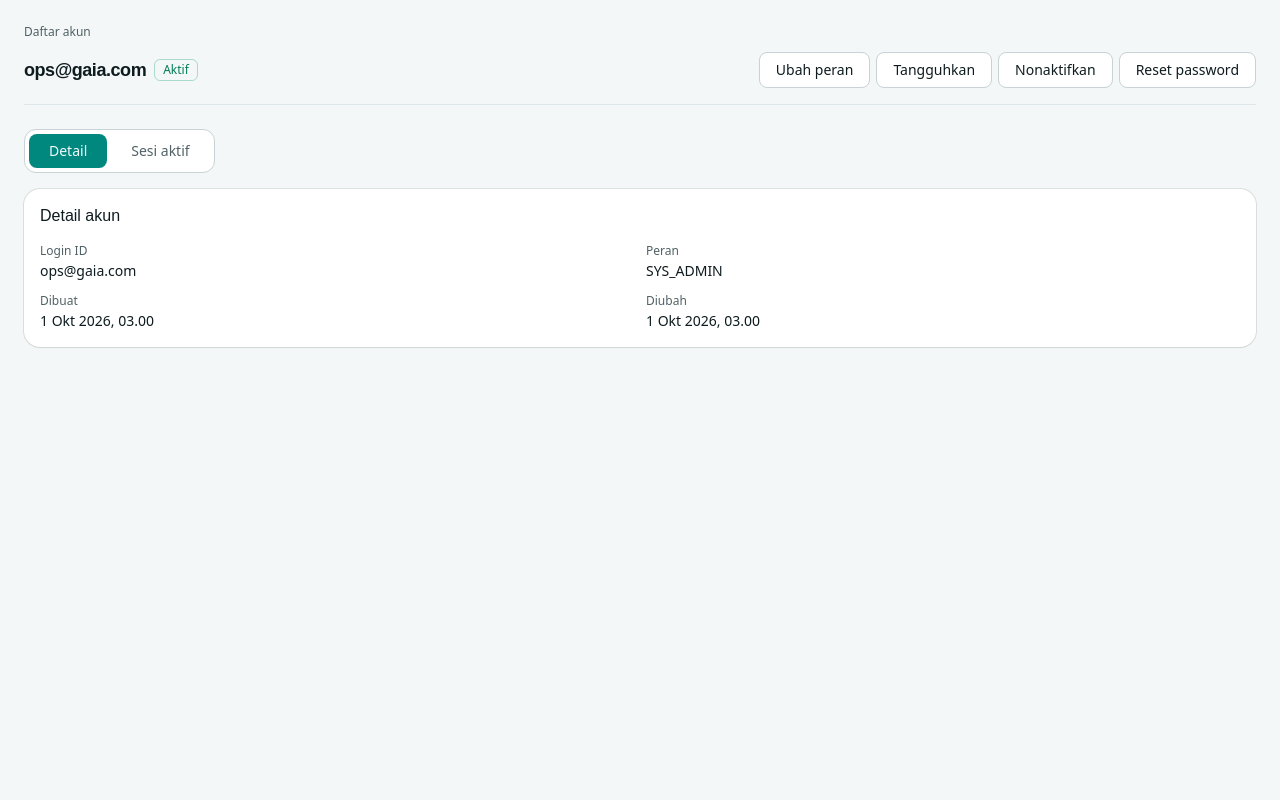
Test case: force logout of another account (D4.10, D13.1) › 409 SELF_ACTION_NOT_ALLOWED shows the fixed copy with the reference id, never the server text
Expected: the heading "ops@gaia.com" is shown, [24,56,146,84]
Click the tab "Sesi aktif": click(160, 151) [111,134,210,168]
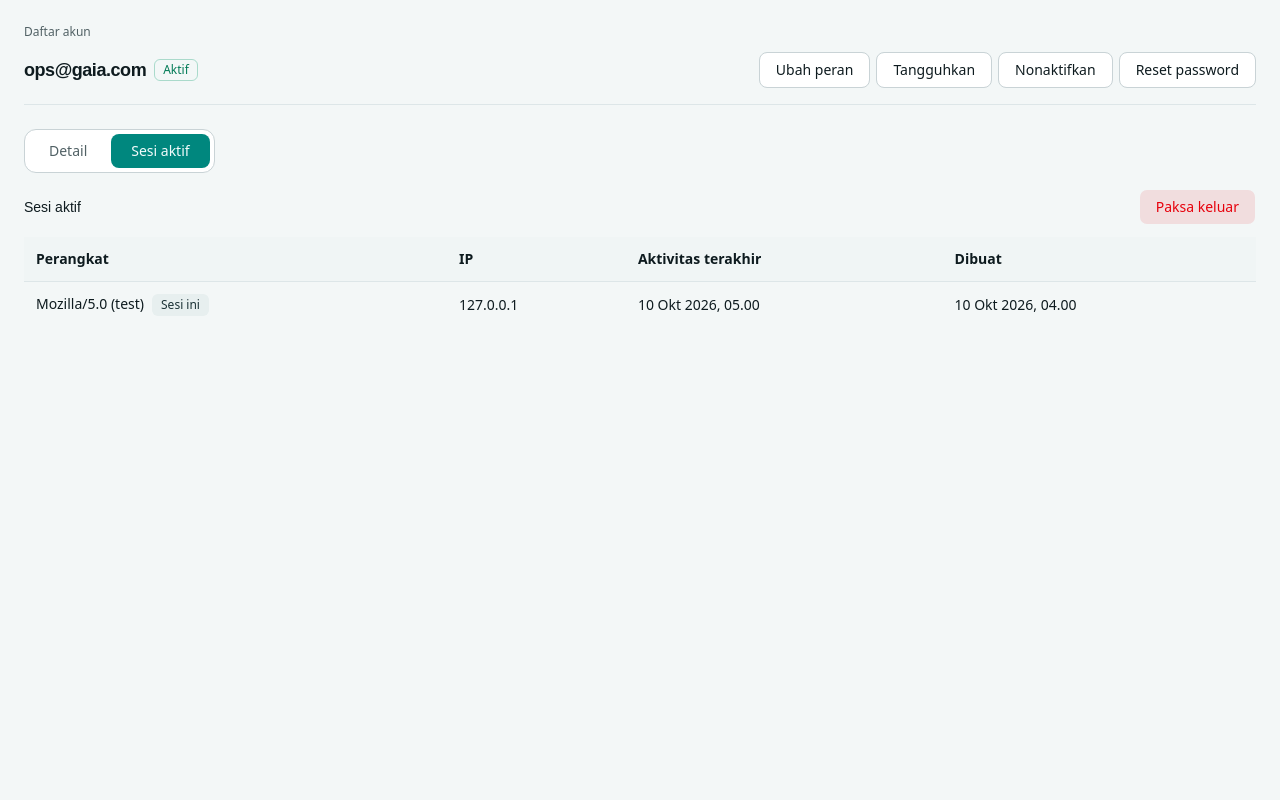
Expected: the table named "Sesi aktif akun" is shown, [24,237,1256,328]
Click the button "Paksa keluar": click(1197, 207) [1139,189,1256,225]
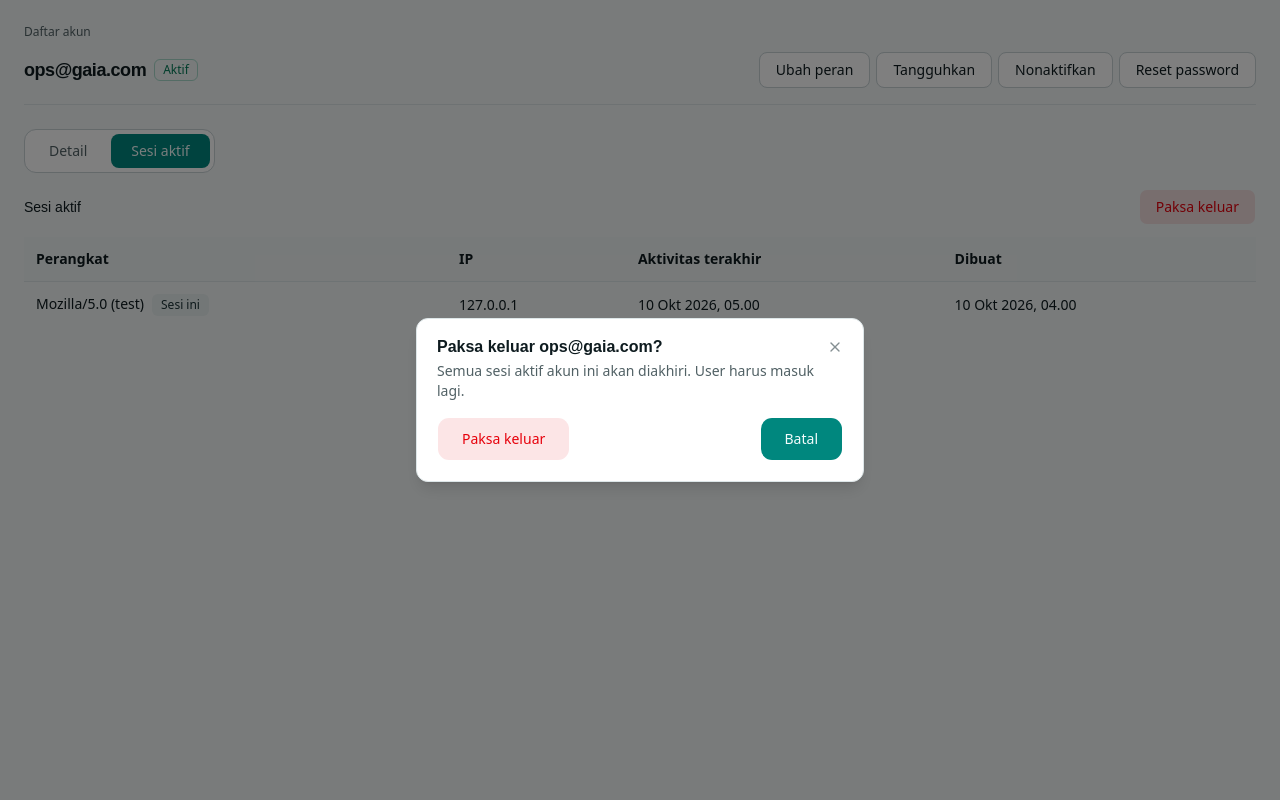
Click the button "Paksa keluar": click(504, 439) [437,417,570,461]
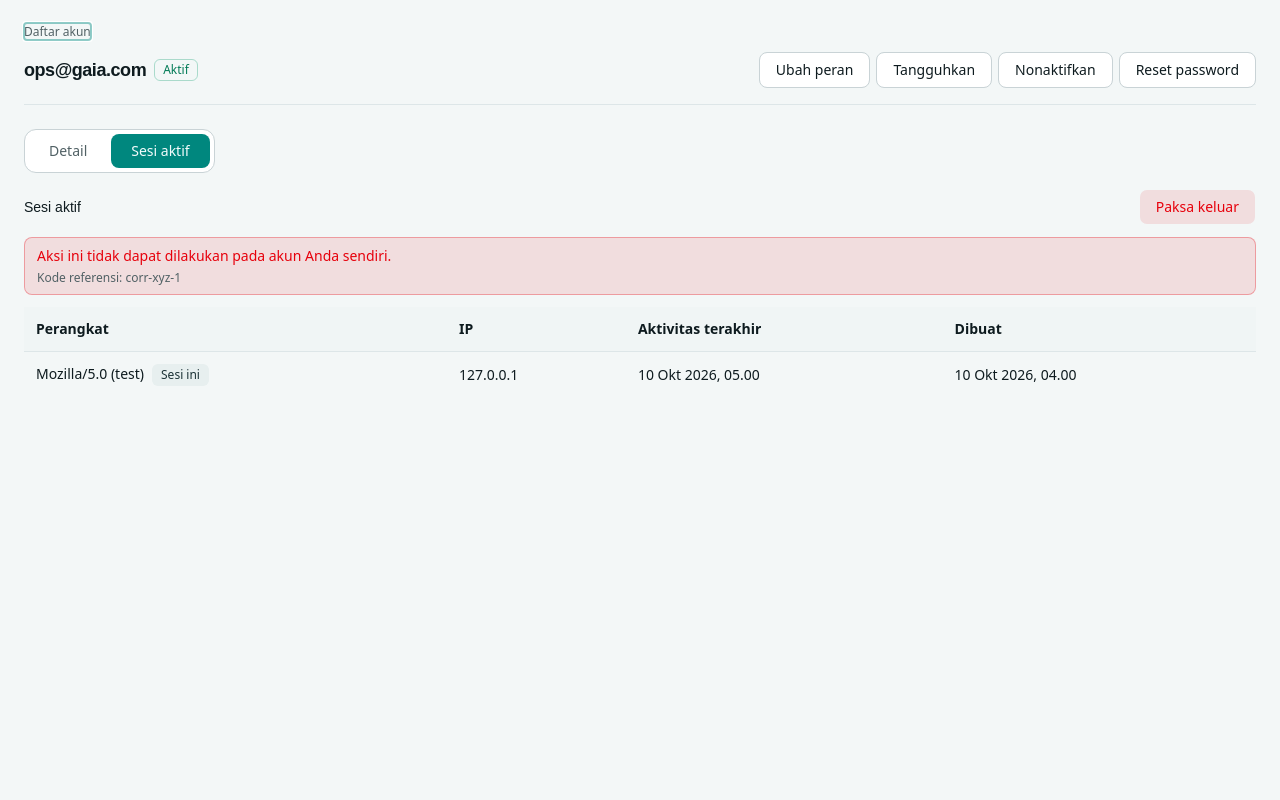
Expected: the message does not show "SERVER TEXT MUST NOT SHOW", [24,237,1256,295]
Expected: the message shows "Aksi ini tidak dapat dilakukan pada akun Anda sendiri.", [37,246,391,265]
Expected: the message shows "Kode referensi: corr-xyz-1", [37,269,181,286]
